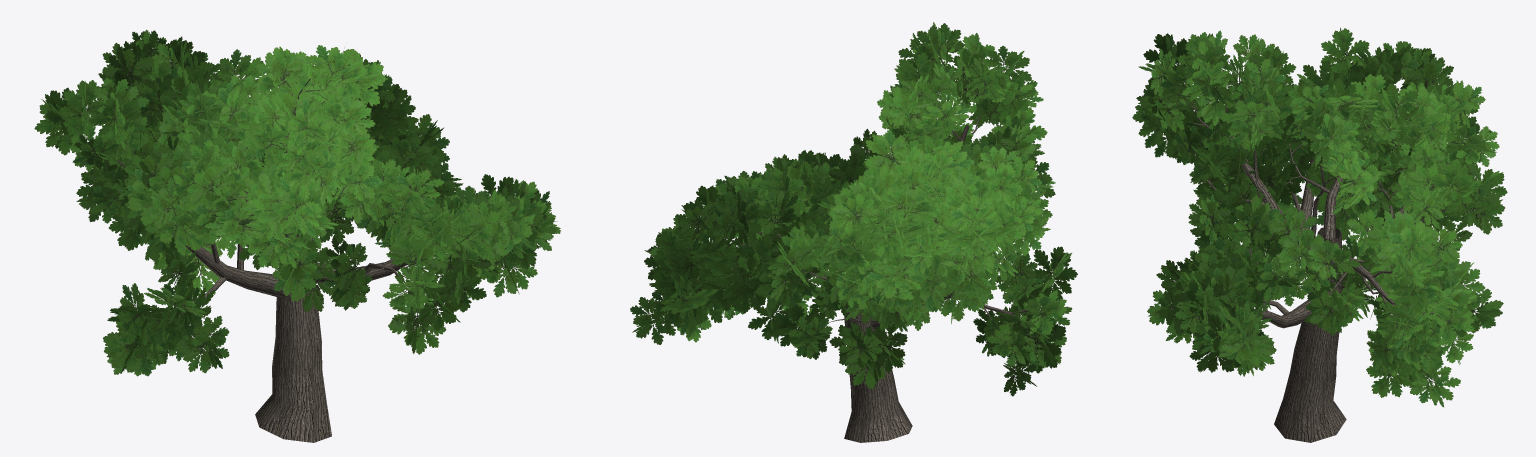
The model's file is nature-green-broad-oak_v4.glb.
3 views of the same model, side by side, from view 1: azimuth 30°, elevation 25°; view 2: azimuth 150°, elevation 25°; view 3: azimuth 270°, elevation 25° (orthographic). The views are drawn at different scales.
Parts seen in each view (by area): view 1: nature-green-broad-oak; view 2: nature-green-broad-oak; view 3: nature-green-broad-oak.
Boxes of the visible parts, x1=… form: nature-green-broad-oak: x1=34, y1=29, x2=560, y2=442; nature-green-broad-oak: x1=630, y1=22, x2=1077, y2=442; nature-green-broad-oak: x1=1132, y1=27, x2=1507, y2=442.
Size of the model in its own units: 10.57 by 9.83 by 8.9.
Materials: 2 (2 with a texture image).
